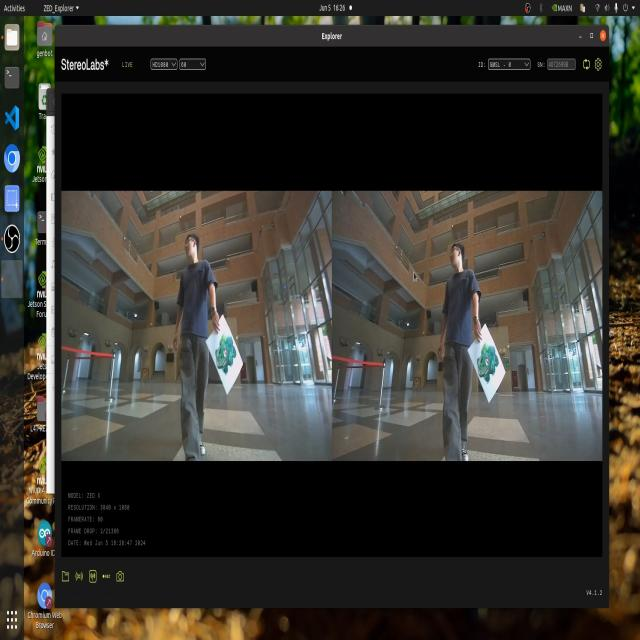green: (200, 324, 243, 381), (478, 339, 502, 388)
